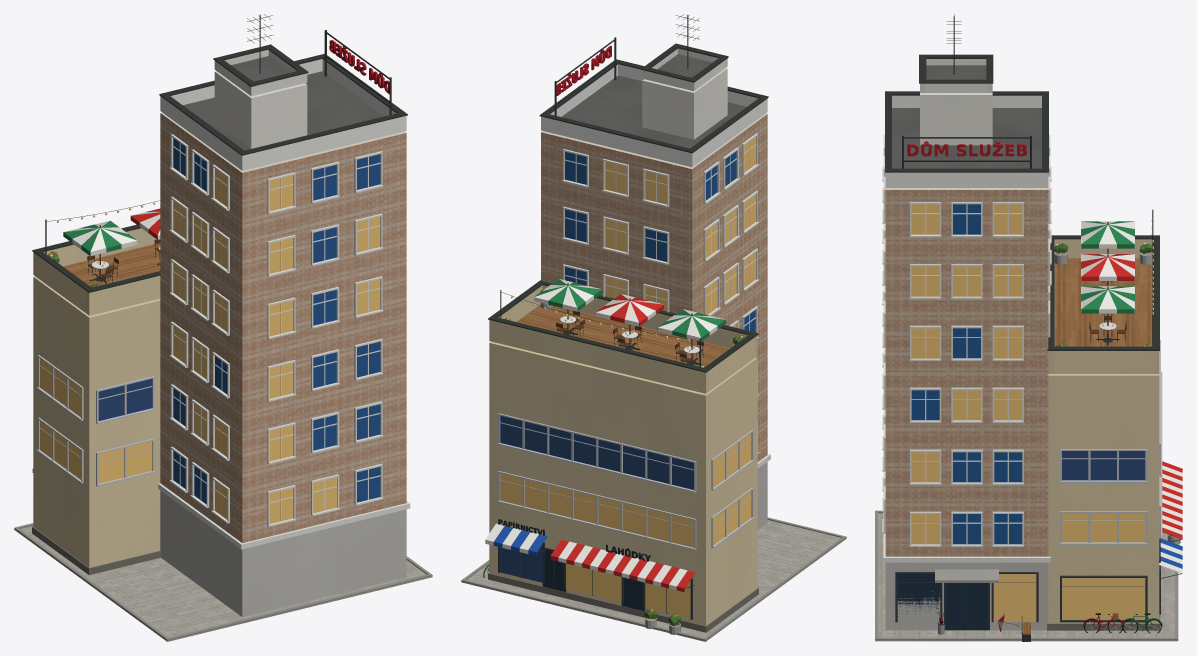
File: dum_00_vysoky_1.glb
The picture shows the model from 3 angles, left to right: view 1: azimuth 30°, elevation 25°; view 2: azimuth 150°, elevation 25°; view 3: azimuth 270°, elevation 25°; orthographic projection. The views are drawn at different scales.
Parts seen in each view (by area): view 1: dum, noc; view 2: dum, noc; view 3: dum, noc.
Boxes of the visible parts, <box> form: dum: <box>14,14,432,641</box>; noc: <box>40,168,380,523</box>; dum: <box>461,14,846,641</box>; noc: <box>500,137,755,618</box>; dum: <box>875,14,1182,641</box>; noc: <box>911,204,1153,621</box>.
Size of the model in its own units: 14.36 by 28.89 by 14.37.
Materials: 1 (1 with a texture image).
